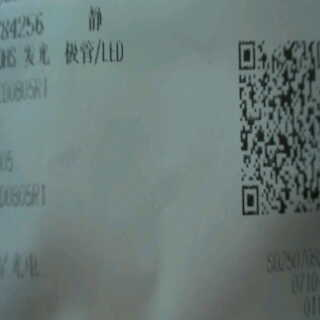LED: (20, 36, 130, 69)
